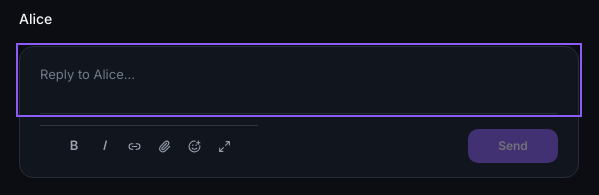
ReplyComposer › inserts link markdown with fallback text
Click the button named "Insert link": (134, 146) [120,132,148,160]
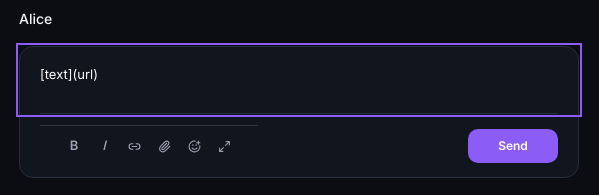
Check: the text box named "Reply to Alice" holds "[text](url)", box [20,47,578,113]
